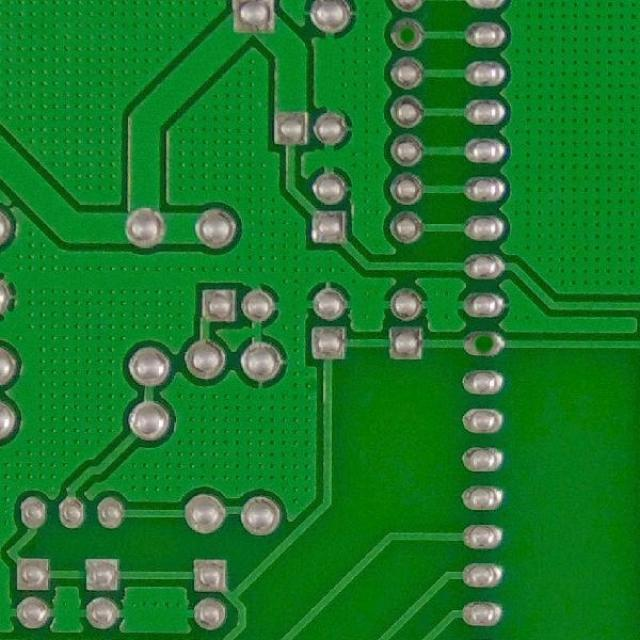Missing_Hole: (390, 16, 426, 52), (462, 330, 508, 357)
